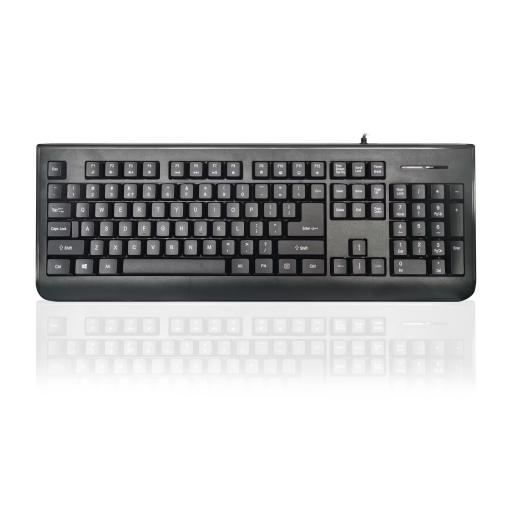keyboard: (30, 140, 481, 310)
